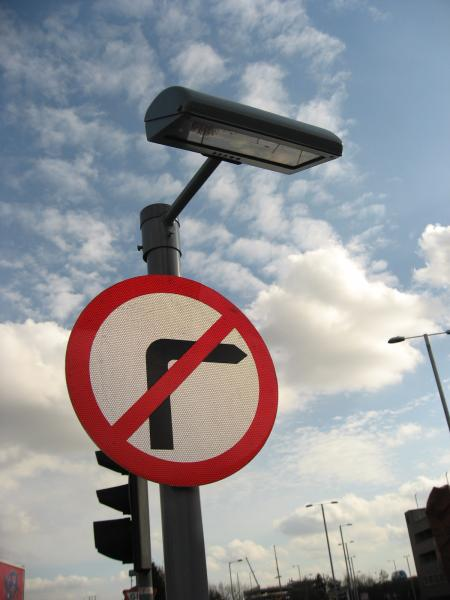No_right_turn: (64, 275, 279, 486)
